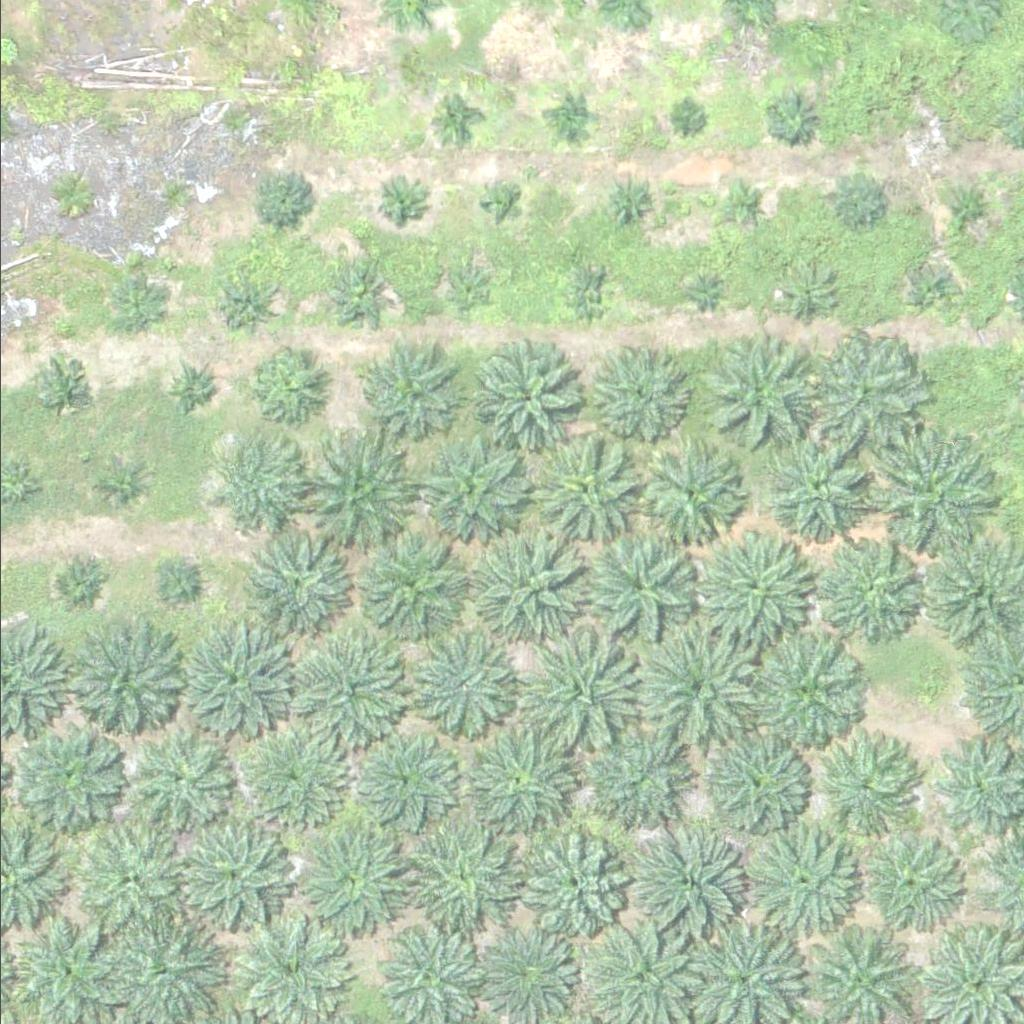Kelapa_Sawit: (867, 435, 993, 560), (634, 625, 760, 750), (744, 627, 870, 752), (393, 813, 519, 938), (283, 823, 409, 948), (466, 522, 592, 647), (518, 629, 644, 754), (175, 808, 301, 933), (293, 637, 407, 750), (750, 821, 863, 934), (699, 527, 812, 640), (582, 526, 695, 639), (238, 523, 351, 636), (238, 715, 351, 828), (77, 824, 190, 937), (107, 909, 220, 1022), (627, 822, 741, 934), (349, 529, 463, 641), (293, 437, 407, 549), (409, 433, 523, 545), (526, 436, 640, 548), (807, 336, 920, 448), (701, 345, 814, 457), (515, 830, 628, 942), (461, 725, 574, 837), (172, 625, 285, 737), (60, 625, 173, 737), (11, 722, 124, 834), (126, 729, 239, 841), (860, 829, 961, 929), (769, 438, 870, 538), (641, 444, 742, 544), (345, 728, 446, 828), (405, 640, 506, 740), (814, 733, 914, 833), (705, 731, 805, 831), (582, 716, 682, 816), (821, 537, 921, 637), (476, 349, 576, 449), (350, 337, 450, 437), (239, 339, 327, 426), (592, 354, 680, 441), (212, 439, 300, 526), (212, 274, 275, 337), (253, 169, 316, 232), (825, 169, 888, 232), (322, 268, 385, 330), (160, 362, 223, 424), (428, 91, 479, 141), (374, 175, 425, 225), (780, 268, 831, 318), (767, 91, 818, 141), (945, 184, 996, 234), (106, 281, 156, 331), (42, 357, 92, 407), (563, 273, 613, 323), (546, 93, 596, 143), (95, 460, 145, 510), (908, 268, 958, 318), (718, 179, 768, 229), (444, 262, 494, 312), (604, 178, 654, 228), (154, 557, 204, 607), (51, 558, 101, 608), (481, 182, 519, 220), (917, 114, 942, 139), (688, 280, 713, 305), (674, 103, 699, 128)
